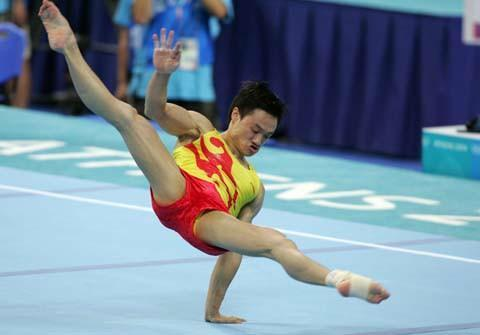Fall-Detected: (27, 0, 406, 334)
